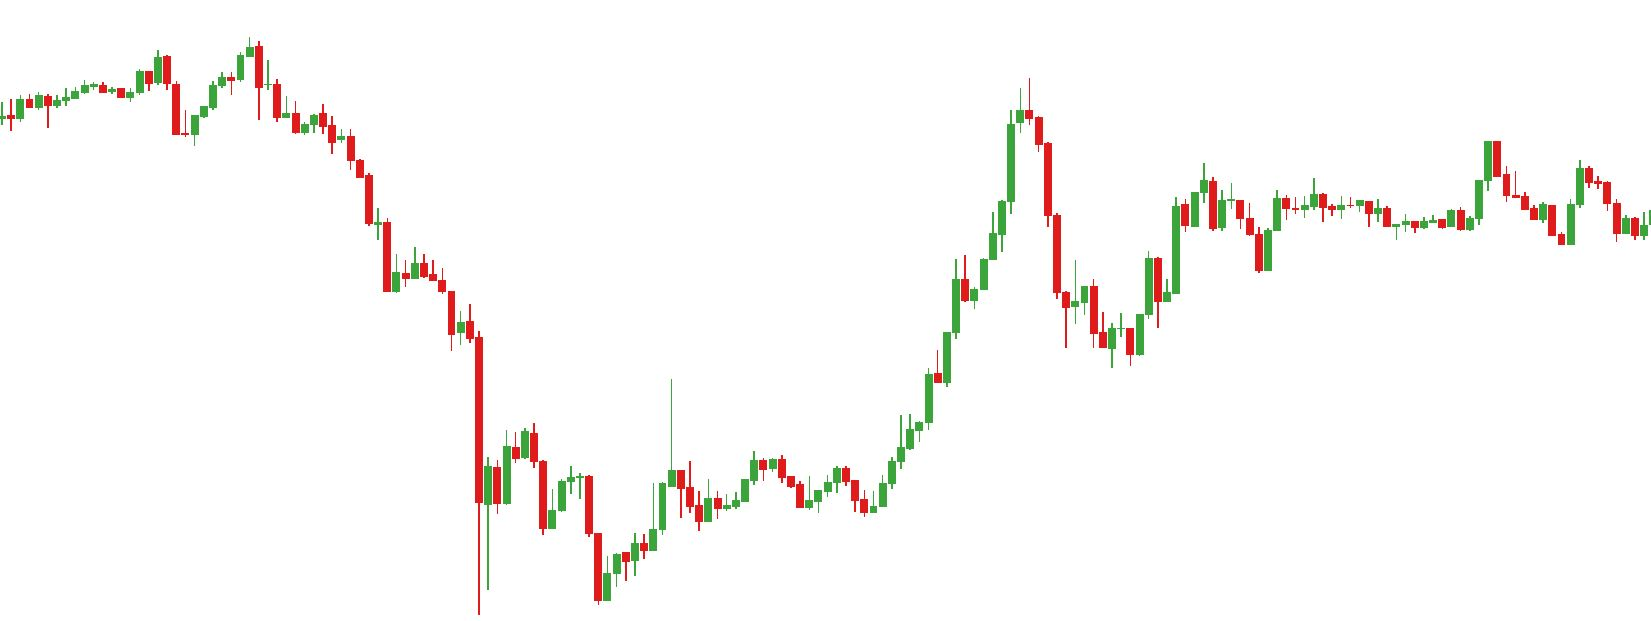buy: (484, 440, 615, 612), (795, 470, 876, 519)
